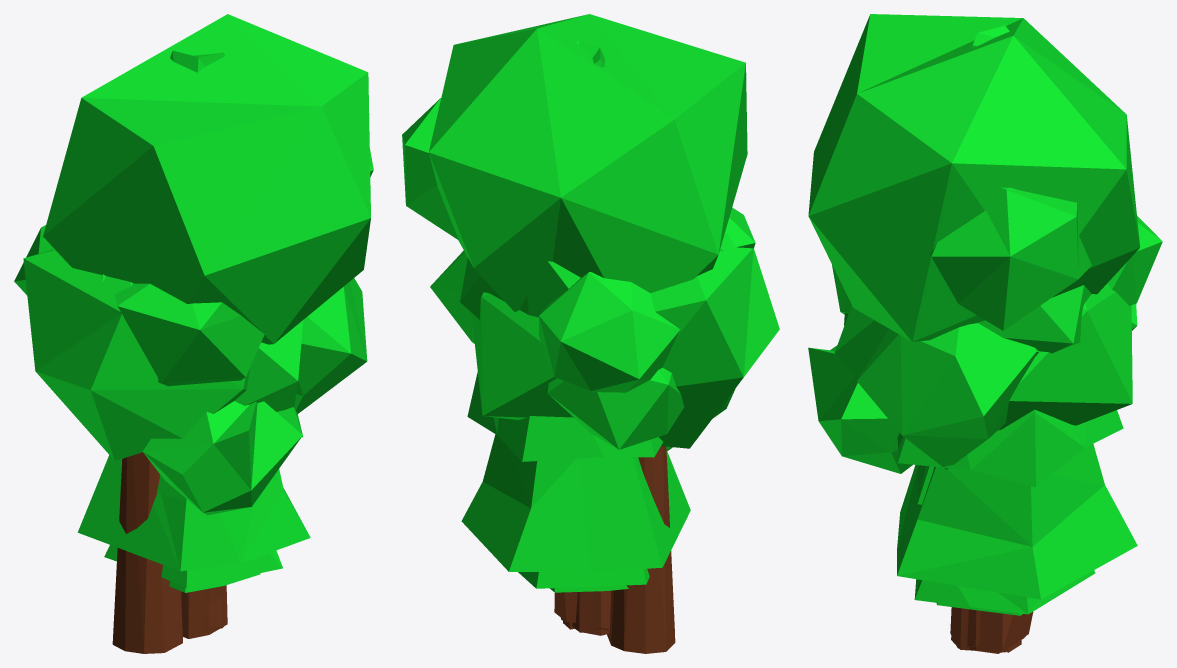
Rendered from Trees.fbx.
The picture shows the model from 3 angles, left to right: view 1: azimuth 30°, elevation 25°; view 2: azimuth 150°, elevation 25°; view 3: azimuth 270°, elevation 25°; orthographic projection. The views are drawn at different scales.
Visible parts, largest first — view 1: Tree7, Tree4, Tree5, Tree1, Tree6, Tree3; view 2: Tree7, Tree4, Tree1, Tree6, Tree5, Tree3; view 3: Tree7, Tree1, Tree6, Tree5, Tree3, Tree4.
Boxes of the visible parts, x1=… form: Tree7: x1=43, y1=14, x2=373, y2=638; Tree4: x1=14, y1=225, x2=249, y2=653; Tree5: x1=142, y1=320, x2=303, y2=631; Tree1: x1=77, y1=50, x2=310, y2=571; Tree6: x1=102, y1=274, x2=367, y2=630; Tree3: x1=104, y1=474, x2=282, y2=588; Tree7: x1=402, y1=14, x2=755, y2=635; Tree4: x1=539, y1=233, x2=779, y2=653; Tree1: x1=461, y1=40, x2=690, y2=622; Tree6: x1=430, y1=249, x2=724, y2=632; Tree5: x1=472, y1=292, x2=735, y2=632; Tree3: x1=518, y1=452, x2=667, y2=629; Tree7: x1=808, y1=14, x2=1140, y2=652; Tree1: x1=897, y1=25, x2=1137, y2=652; Tree6: x1=857, y1=285, x2=1137, y2=652; Tree5: x1=808, y1=283, x2=1132, y2=653; Tree3: x1=914, y1=465, x2=1095, y2=652; Tree4: x1=844, y1=216, x2=1162, y2=325.
Bounding box in the file's own units: 1879 × 3194 × 1610.
